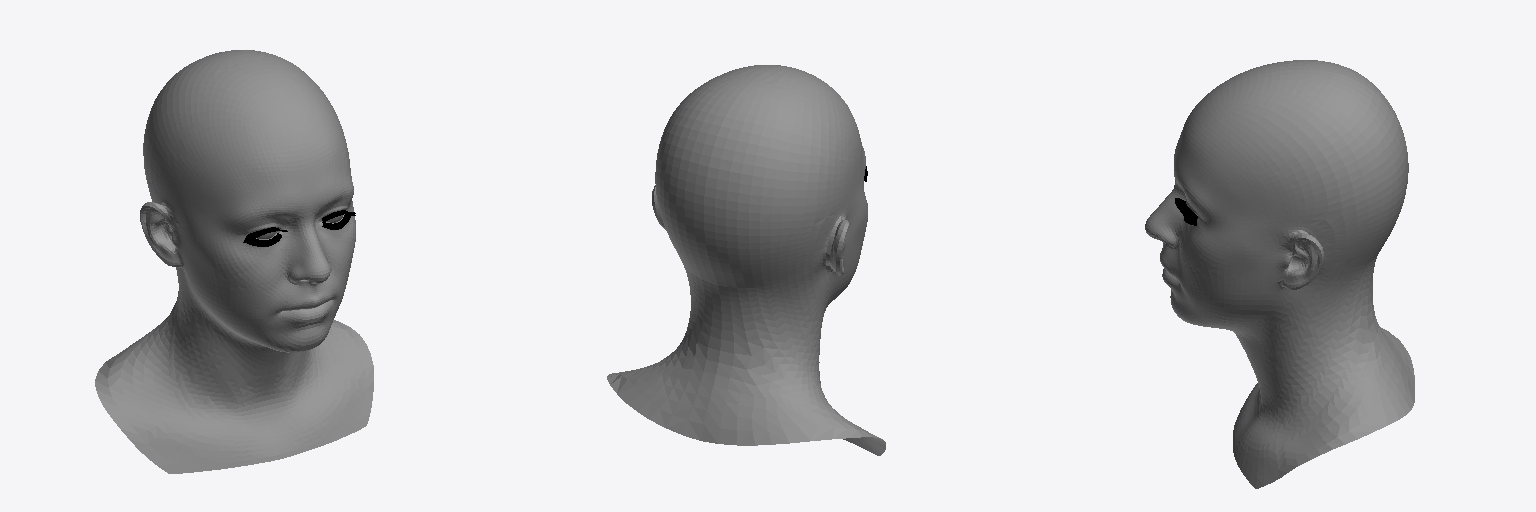
Rendered from identity022.obj.
3 views of the same model, side by side, from view 1: azimuth 30°, elevation 25°; view 2: azimuth 150°, elevation 25°; view 3: azimuth 270°, elevation 25° (orthographic).
Size of the model in its own units: 24.87 by 33.77 by 22.19.